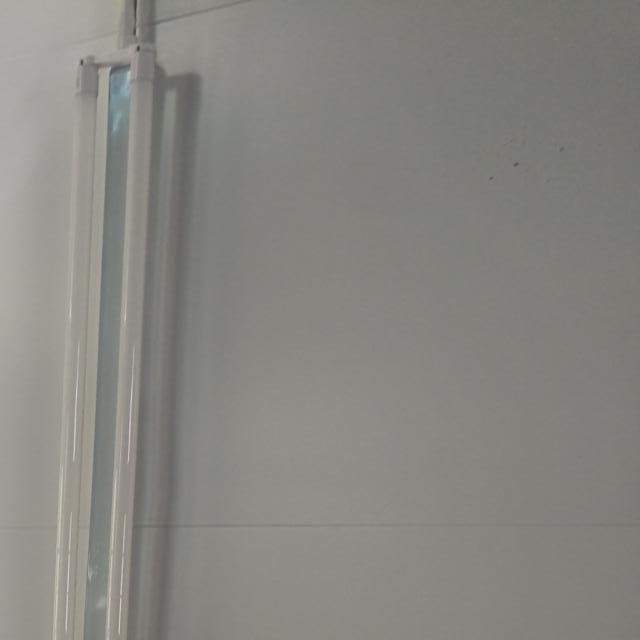fluorescent tube: (1, 22, 206, 640)
